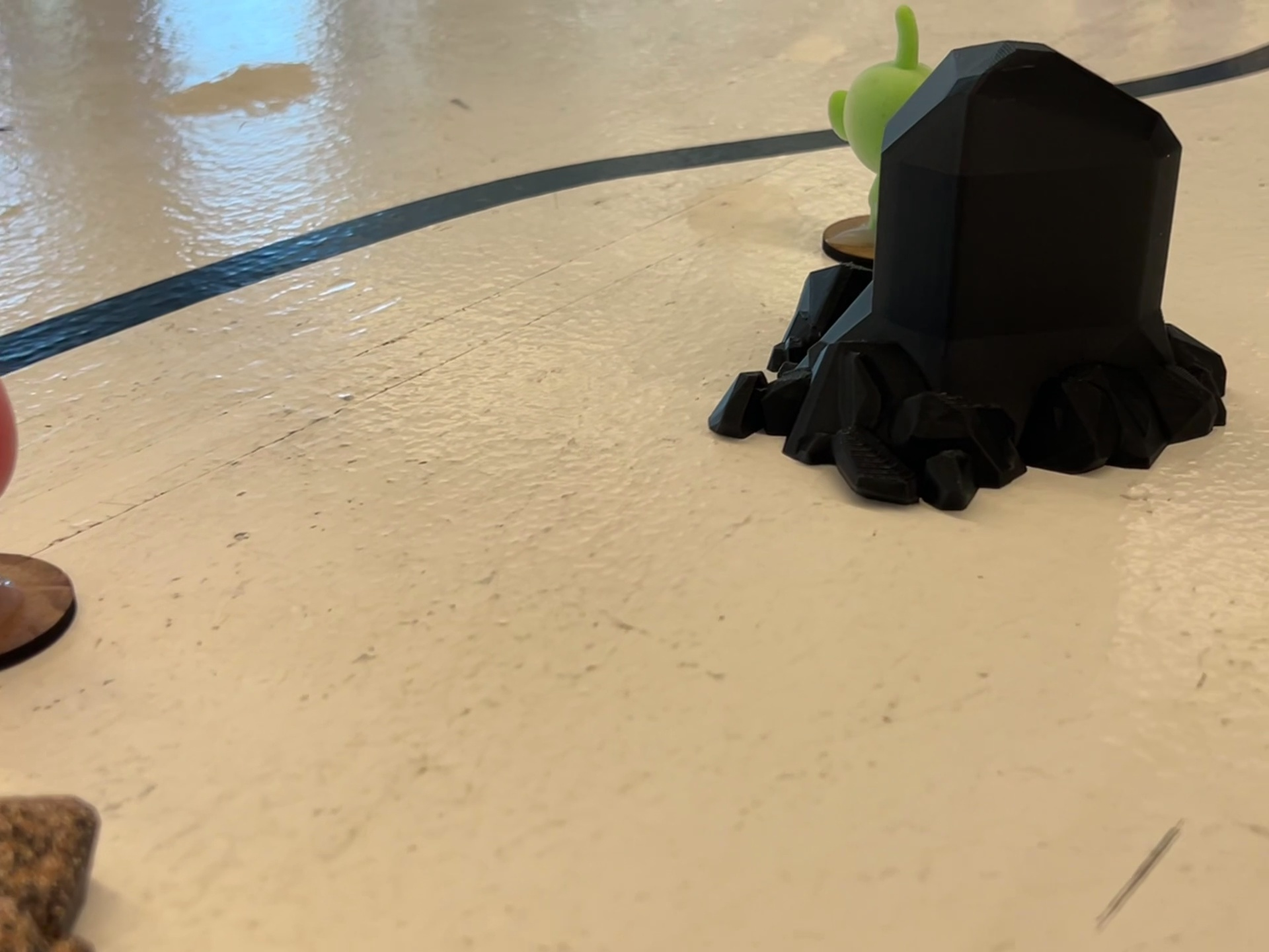teletubby: (828, 5, 931, 232), (0, 379, 17, 495)
